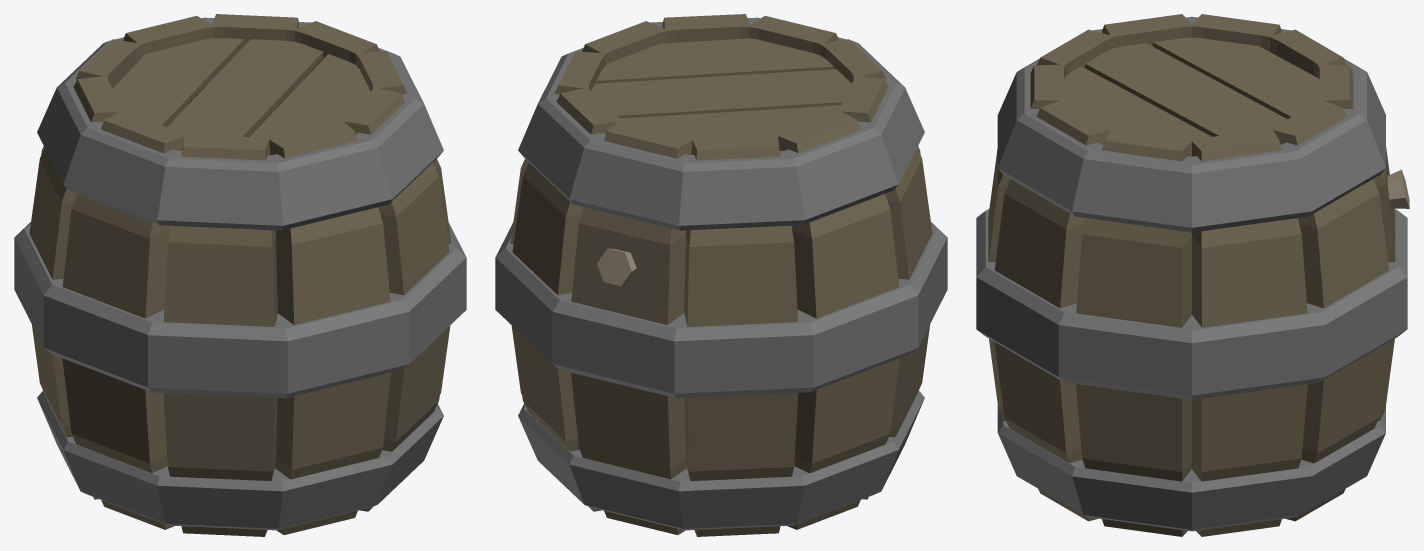
Rendered from Barrel.fbx.
3 renders of one model, left to right at view 1: azimuth 30°, elevation 25°; view 2: azimuth 150°, elevation 25°; view 3: azimuth 270°, elevation 25°, orthographic.
Visible parts, largest first — view 1: pCylinder12; view 2: pCylinder12; view 3: pCylinder12.
Boxes of the visible parts, bbox=[...] form: pCylinder12: bbox=[14, 14, 466, 536]; pCylinder12: bbox=[495, 14, 947, 536]; pCylinder12: bbox=[976, 14, 1409, 536].
Size of the model in its own units: 67.91 by 63.71 by 64.91.
